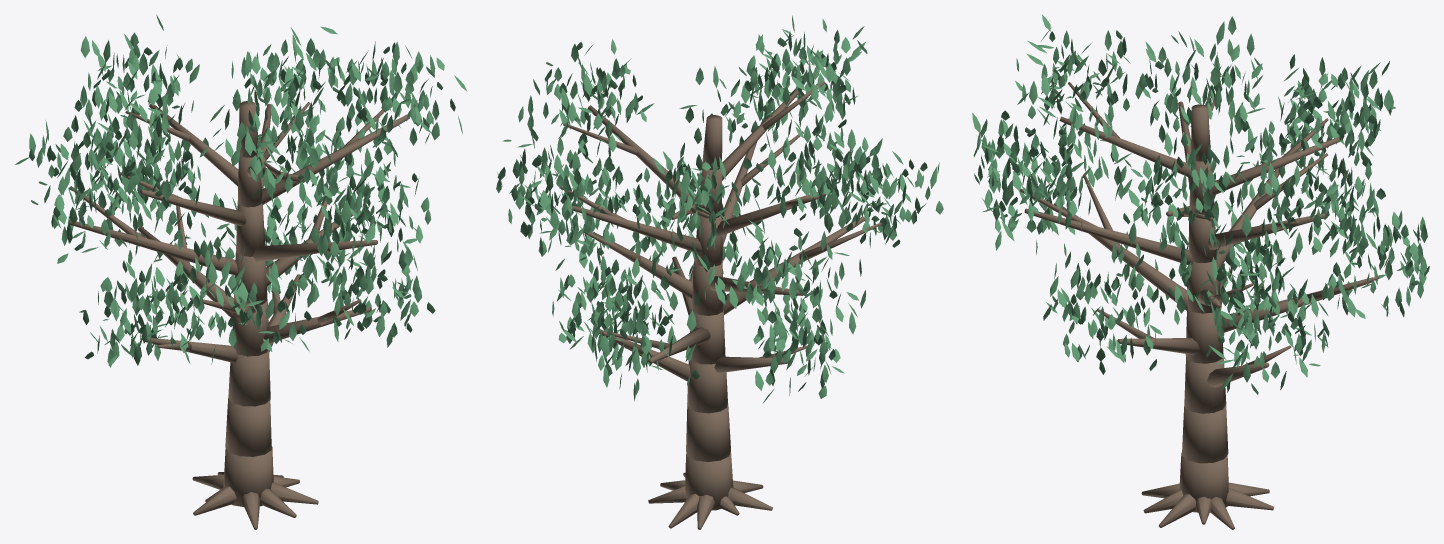
File: forest_tree_2.glb
3 renders of one model, left to right at view 1: azimuth 30°, elevation 25°; view 2: azimuth 150°, elevation 25°; view 3: azimuth 270°, elevation 25°, orthographic. The views are drawn at different scales.
Visible parts, largest first — view 1: ForestTree2; view 2: ForestTree2; view 3: ForestTree2.
Boxes of the visible parts, left/top/right/bottom form: ForestTree2: left=15, top=14, right=467, bottom=529; ForestTree2: left=496, top=15, right=943, bottom=529; ForestTree2: left=972, top=14, right=1429, bottom=529.
Size of the model in its own units: 7.32 by 9.02 by 8.17.
